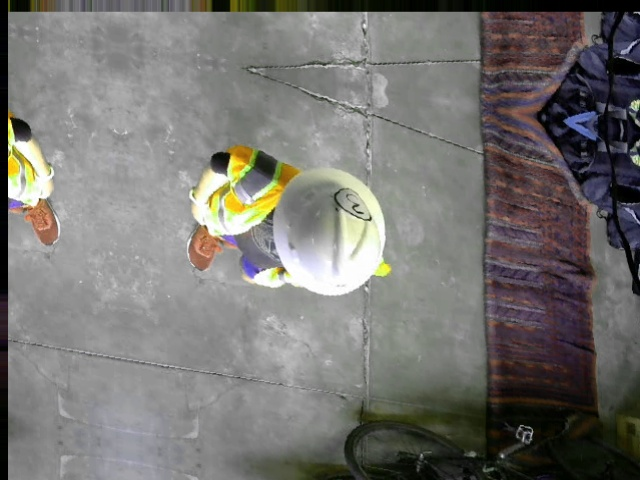three: (334, 185, 372, 223)
